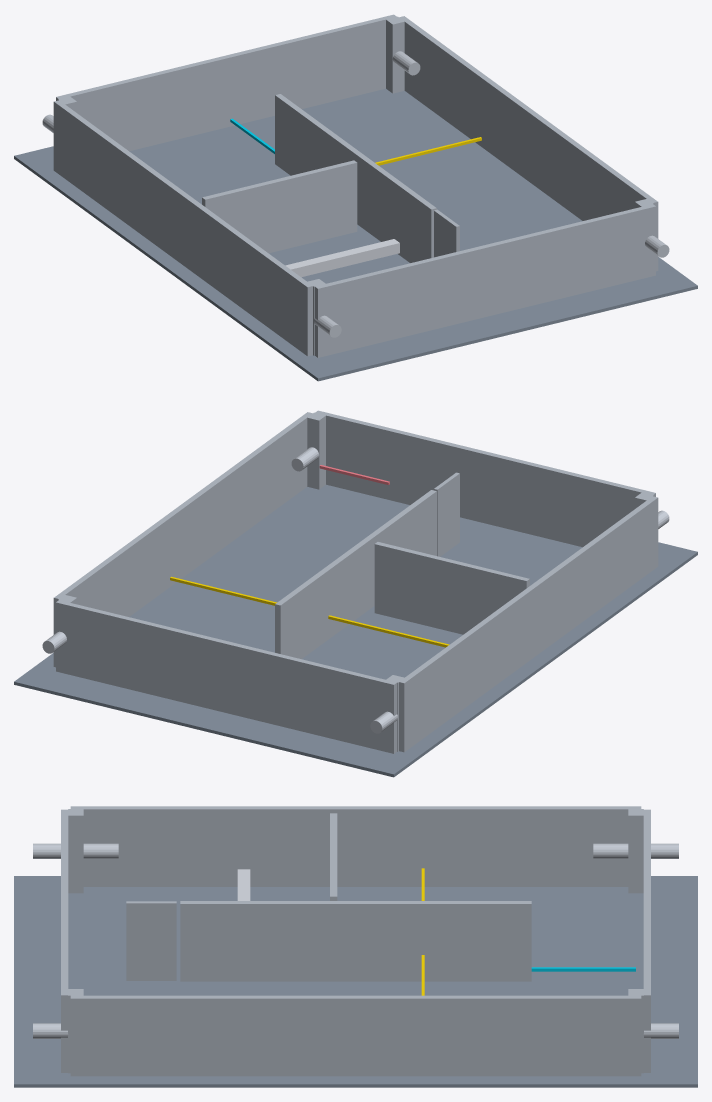
3 renders of one model, top to bottom at view 1: azimuth 30°, elevation 25°; view 2: azimuth 150°, elevation 25°; view 3: azimuth 270°, elevation 25°, orthographic. The views are drawn at different scales.
Visible parts, largest first — view 1: slab, wall_2, wall, wall_3, wall_1, wall_4, wall_5, mep-hvac, wall_14, wall_8; view 2: slab, wall, wall_2, wall_3, wall_1, wall_4, wall_5, wall_14, mep-electrical, wall_12; view 3: slab, wall_1, wall_3, wall_4, wall_14, wall, wall_2, wall_11, wall_7, col, col_2, wall_5 (+4 smaller).
Part boxes in pixels (x1,y1,x2,y2): slab: (14,88,697,381); wall_2: (315,204,655,357); wall: (56,14,396,151); wall_3: (53,100,312,356); wall_1: (399,16,658,271); wall_4: (275,94,436,262); wall_5: (202,160,357,253); mep-hvac: (285,239,399,277); wall_14: (434,209,459,257); wall_8: (386,16,404,93); slab: (14,484,697,777); wall: (56,600,396,753); wall_2: (315,410,655,547); wall_3: (399,496,658,752); wall_1: (53,412,312,667); wall_4: (275,490,436,658); wall_5: (374,542,529,634); wall_14: (434,472,459,556); mep-electrical: (170,576,449,647); wall_12: (307,412,325,489); slab: (14,876,697,1087); wall_1: (70,995,641,1076); wall_3: (70,806,641,886); wall_4: (180,901,531,981); wall_14: (126,901,176,980); wall: (643,809,650,1072); wall_2: (61,809,68,1072); wall_11: (68,809,83,893); wall_7: (628,809,643,893); col: (593,843,678,858); col_2: (33,843,118,858); wall_5: (330,813,337,900).
Bounding box in the file's own units: 5.77 × 1.05 × 8.
